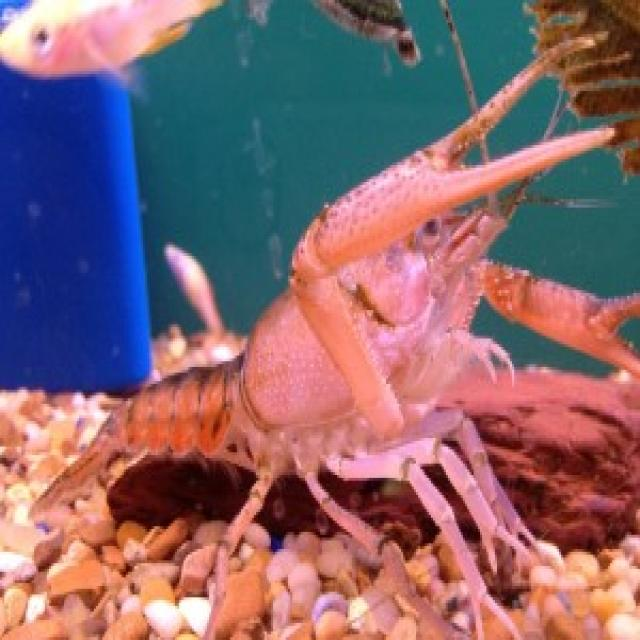lobsters: (71, 68, 634, 574)
